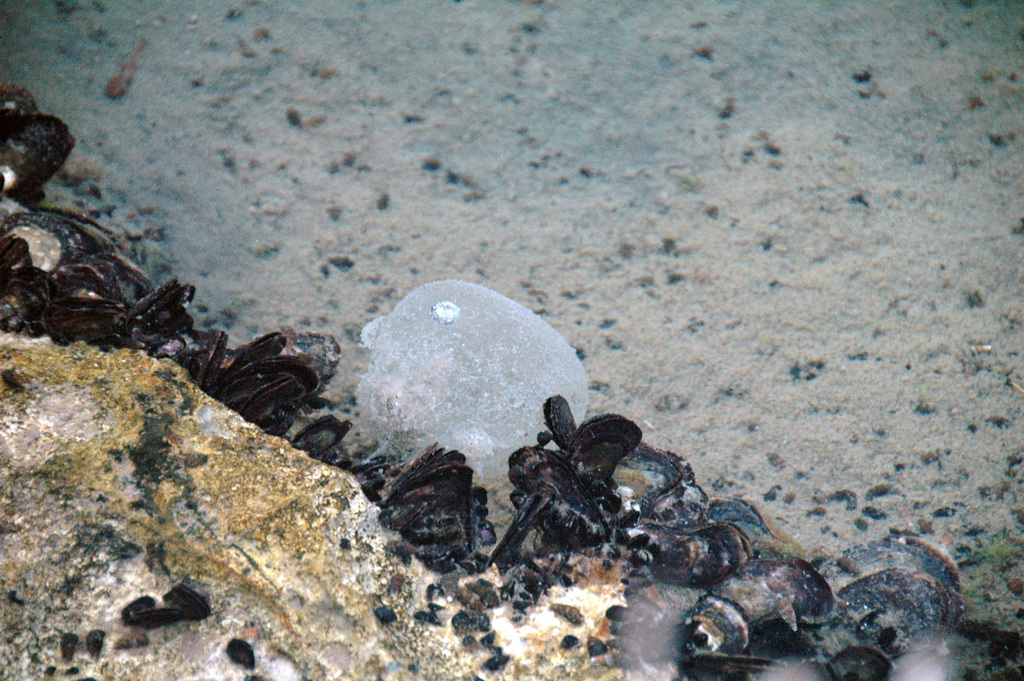Jellyfish: (351, 276, 590, 480)
